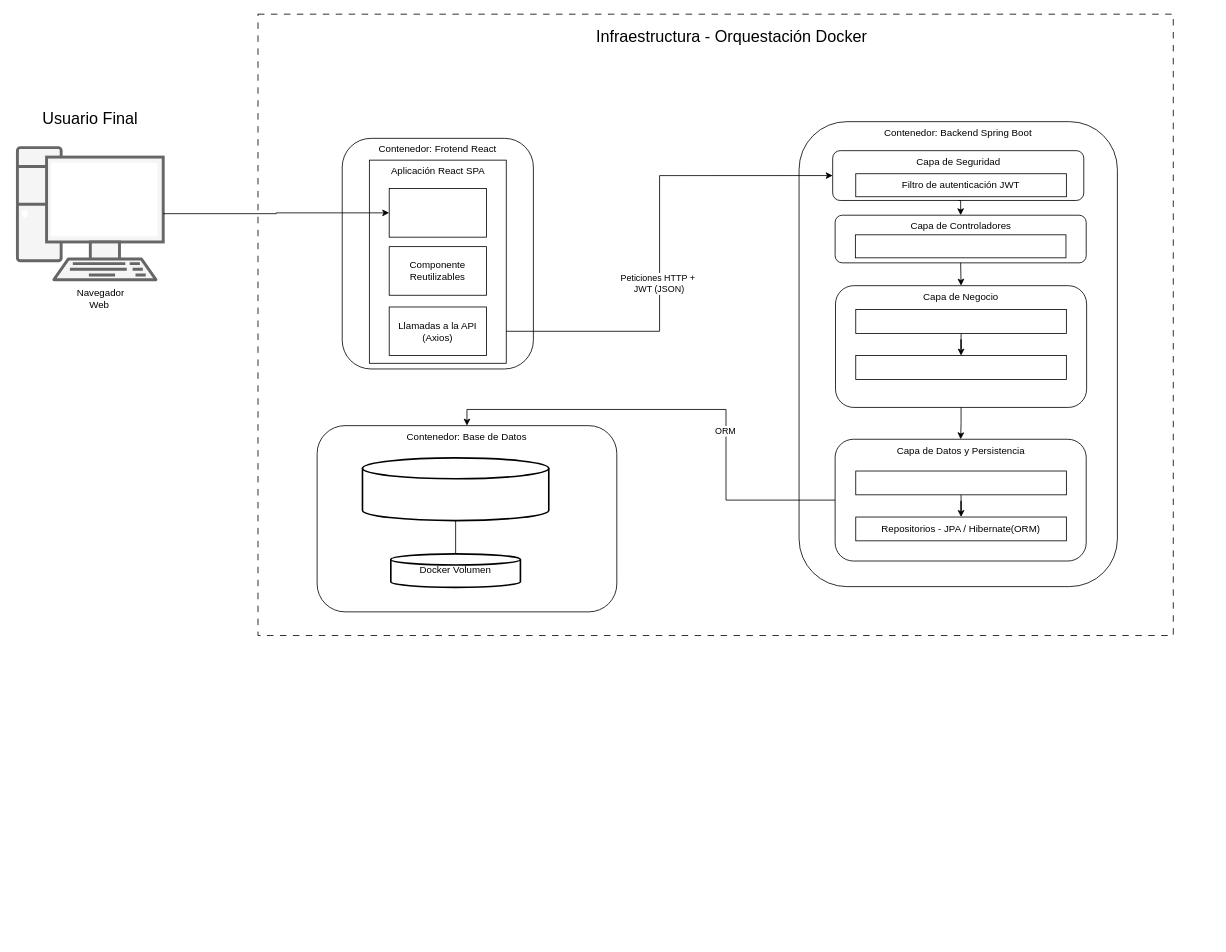
This 1226x952 diagram has some shape labels left out. Each missing label, with the centre of its shape:
Capa de Modelo - Entidades JPA: (960,482)
Capa de Páginas - "Vistas": (437,212)
Data Transfer Objects - DTOs: (960,321)
PostgresSQL: (455,489)
Rest Controllers - Endpoints: (960,246)
Servicios - Lógica del negocio: (960,367)
